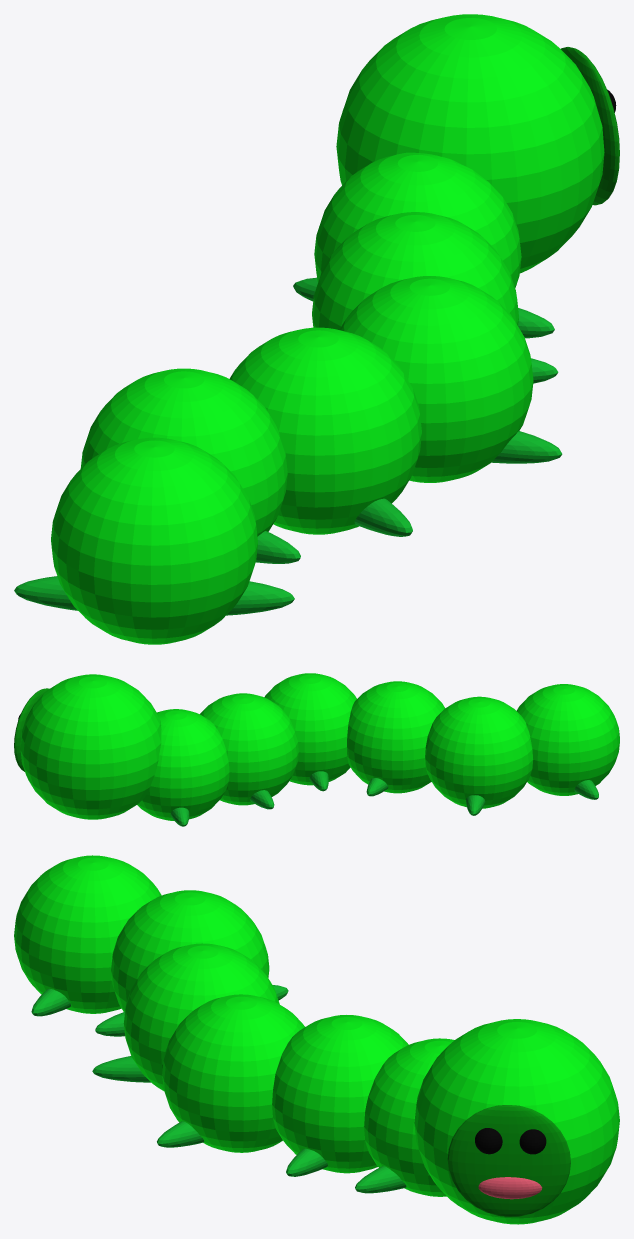
Rendered from oruga.gltf.
3 views of the same model, one above another, from view 1: azimuth 30°, elevation 25°; view 2: azimuth 150°, elevation 25°; view 3: azimuth 270°, elevation 25° (orthographic). The views are drawn at different scales.
Parts seen in each view (by area): view 1: Esfera, Esfera.006, Esfera.004, Esfera.003, Esfera.005, Esfera.002, Esfera.001, Esfera.013, Esfera.007, Esfera.010, Esfera.009, Esfera.012 (+1 smaller); view 2: Esfera, Esfera.005, Esfera.006, Esfera.004, Esfera.002, Esfera.001, Esfera.003, Esfera.013, Esfera.007, Esfera.011, Esfera.008, Esfera.010 (+2 smaller); view 3: Esfera, Esfera.003, Esfera.006, Esfera.002, Esfera.004, Esfera.013, Esfera.005, Esfera.001, Esfera.016, Esfera.009, Esfera.012, Esfera.010 (+5 smaller).
Part boxes in pixels (x1,y1,x2,y2): Esfera: (336, 14, 604, 273); Esfera.006: (51, 437, 257, 644); Esfera.004: (229, 327, 421, 534); Esfera.003: (339, 276, 533, 482); Esfera.005: (80, 368, 287, 536); Esfera.002: (312, 212, 518, 329); Esfera.001: (314, 152, 521, 287); Esfera.013: (561, 47, 619, 205); Esfera.007: (14, 576, 294, 615); Esfera.010: (492, 431, 562, 463); Esfera.009: (354, 498, 412, 536); Esfera.012: (293, 277, 554, 338); Esfera: (20, 674, 161, 819); Esfera.005: (425, 696, 533, 808); Esfera.006: (516, 684, 619, 795); Esfera.004: (347, 681, 445, 793); Esfera.002: (200, 693, 298, 805); Esfera.001: (137, 709, 229, 820); Esfera.003: (264, 673, 356, 785); Esfera.013: (14, 688, 49, 771); Esfera.007: (574, 780, 598, 799); Esfera.011: (250, 790, 274, 809); Esfera.008: (466, 795, 485, 815); Esfera.010: (309, 771, 328, 791); Esfera: (414, 1019, 619, 1224); Esfera.003: (162, 994, 304, 1152); Esfera.006: (14, 855, 161, 1013); Esfera.002: (272, 1015, 408, 1173); Esfera.004: (123, 943, 279, 1091); Esfera.013: (447, 1105, 570, 1216); Esfera.005: (111, 890, 269, 1011); Esfera.001: (364, 1038, 454, 1196); Esfera.016: (478, 1177, 542, 1199); Esfera.009: (92, 1056, 150, 1082); Esfera.012: (355, 1166, 406, 1193); Esfera.010: (157, 1121, 204, 1147).
Bounding box in the file's own units: 9.13 × 2.78 × 7.64.
